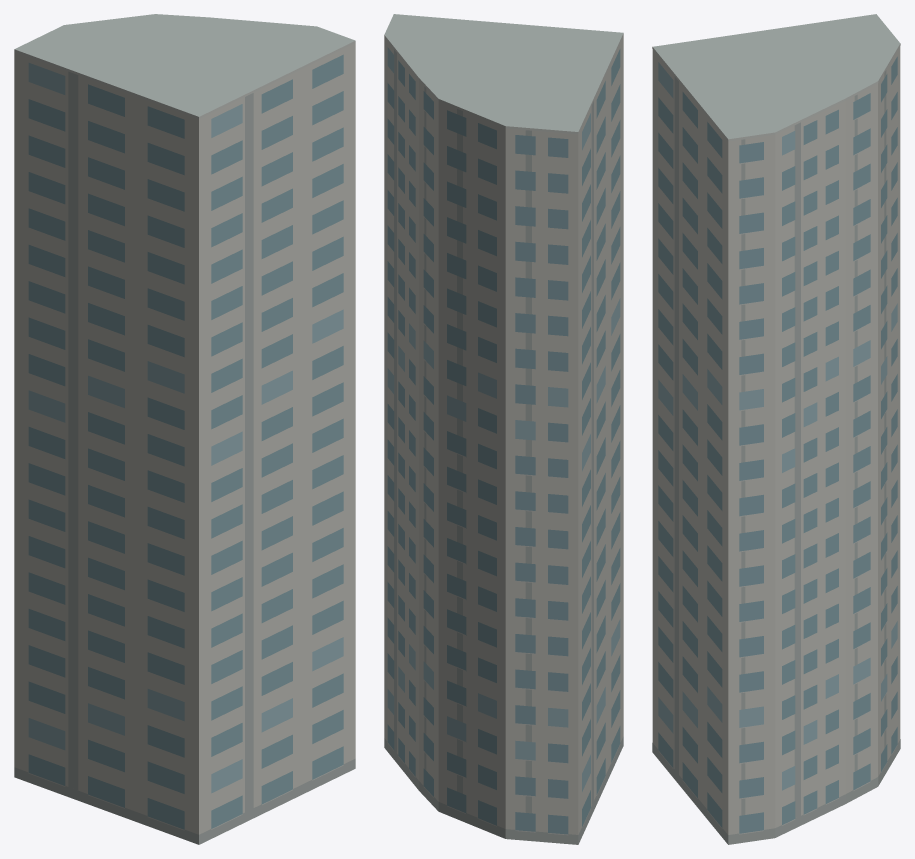
The model's file is residential-3153009c-d03d-48eb-b4d4-8832ce1bad3e.glb.
3 views of the same model, side by side, from view 1: azimuth 30°, elevation 25°; view 2: azimuth 150°, elevation 25°; view 3: azimuth 270°, elevation 25° (orthographic). The views are drawn at different scales.
Parts seen in each view (by area): view 1: residential-3153009c-d03d-48eb-b4d4-8832ce1bad3e.tmp; view 2: residential-3153009c-d03d-48eb-b4d4-8832ce1bad3e.tmp; view 3: residential-3153009c-d03d-48eb-b4d4-8832ce1bad3e.tmp.
Boxes of the visible parts, x1,y1,x2,y2 form: residential-3153009c-d03d-48eb-b4d4-8832ce1bad3e.tmp: [14, 14, 355, 844]; residential-3153009c-d03d-48eb-b4d4-8832ce1bad3e.tmp: [384, 14, 623, 844]; residential-3153009c-d03d-48eb-b4d4-8832ce1bad3e.tmp: [652, 14, 900, 844].
Bounding box in the file's own units: 27.81 × 73 × 23.25.
